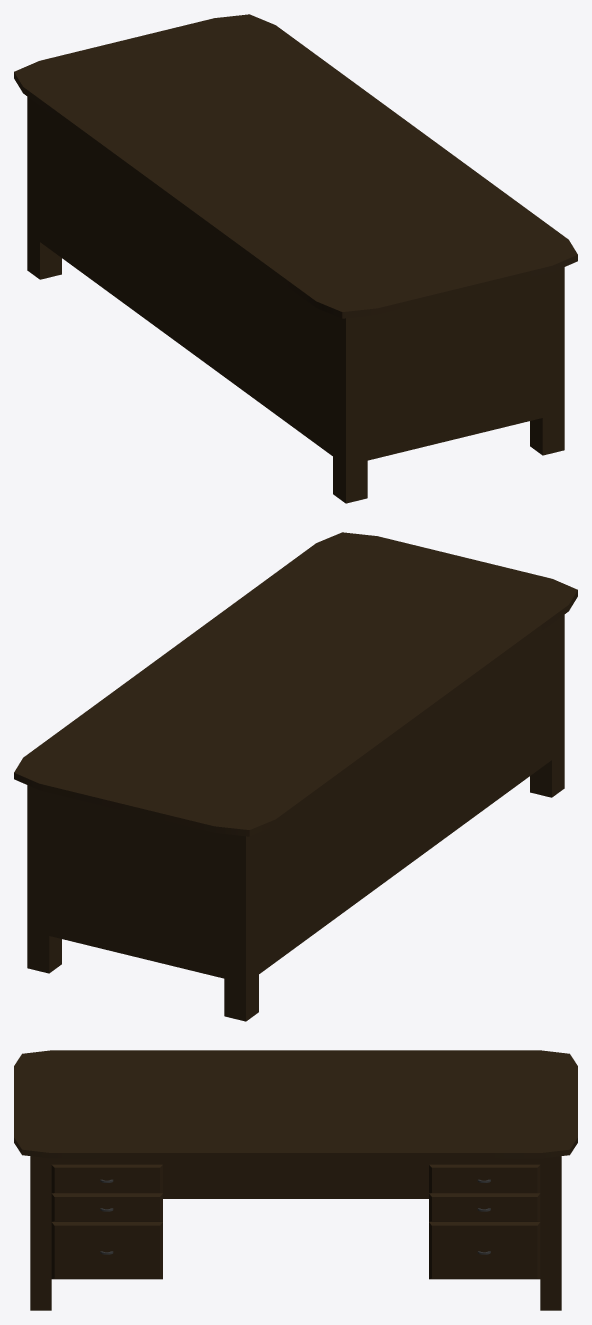
Rendered from Desk.fbx.
3 views of the same model, one above another, from view 1: azimuth 30°, elevation 25°; view 2: azimuth 150°, elevation 25°; view 3: azimuth 270°, elevation 25° (orthographic). The views are drawn at different scales.
Parts seen in each view (by area): view 1: g_desk1; view 2: g_desk1; view 3: g_desk1.
Boxes of the visible parts, x1,y1,x2,y2 form: g_desk1: (14,14,577,503); g_desk1: (14,532,577,1021); g_desk1: (14,1050,577,1310).
Bounding box in the file's own units: 37.57 × 28.02 × 87.11.
